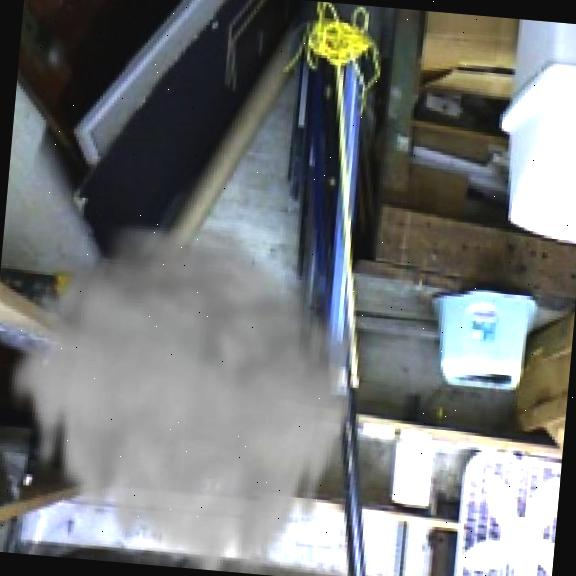smoke: (79, 219, 335, 534)
